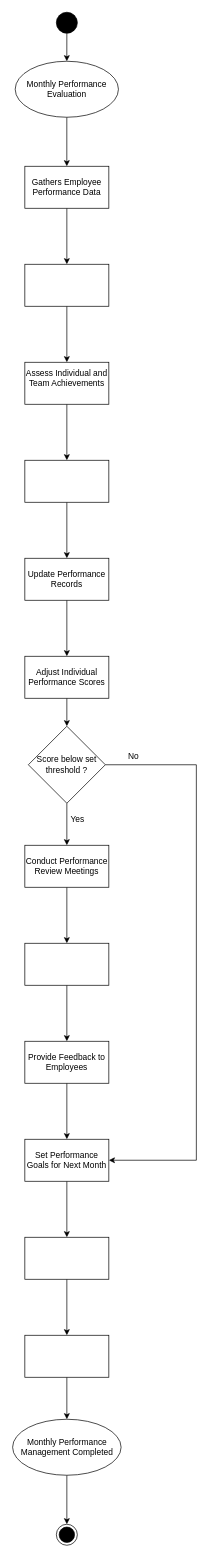
This 214x1558 diagram has some shape labels left out. The box of each missing label's shape, as (x1, y1, x2, y2) in pixels:
Align Goals with Organizational Objectives: (24, 1335, 109, 1377)
Collaborate with Employees to Set Goals: (24, 1237, 109, 1279)
Collect Employee Metrics: (24, 264, 109, 306)
Evaluate Employee Behavior and Competencies: (24, 460, 109, 502)
Schedule and Conduct Meetings: (24, 943, 109, 985)
